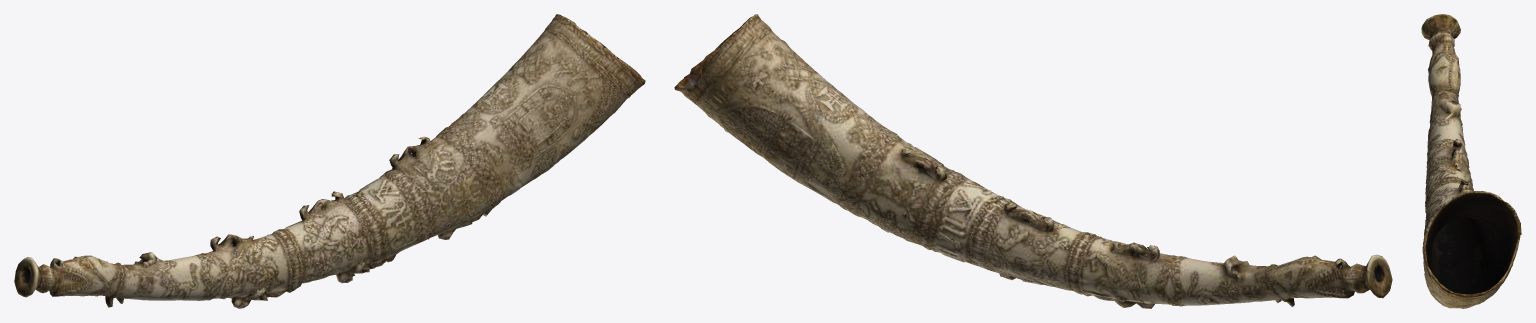
3 views of the same model, side by side, from view 1: azimuth 30°, elevation 25°; view 2: azimuth 150°, elevation 25°; view 3: azimuth 270°, elevation 25° (orthographic). The views are drawn at different scales.
Size of the model in its own units: 640 by 188 by 87.98.
Materials: 1 (1 with a texture image).
